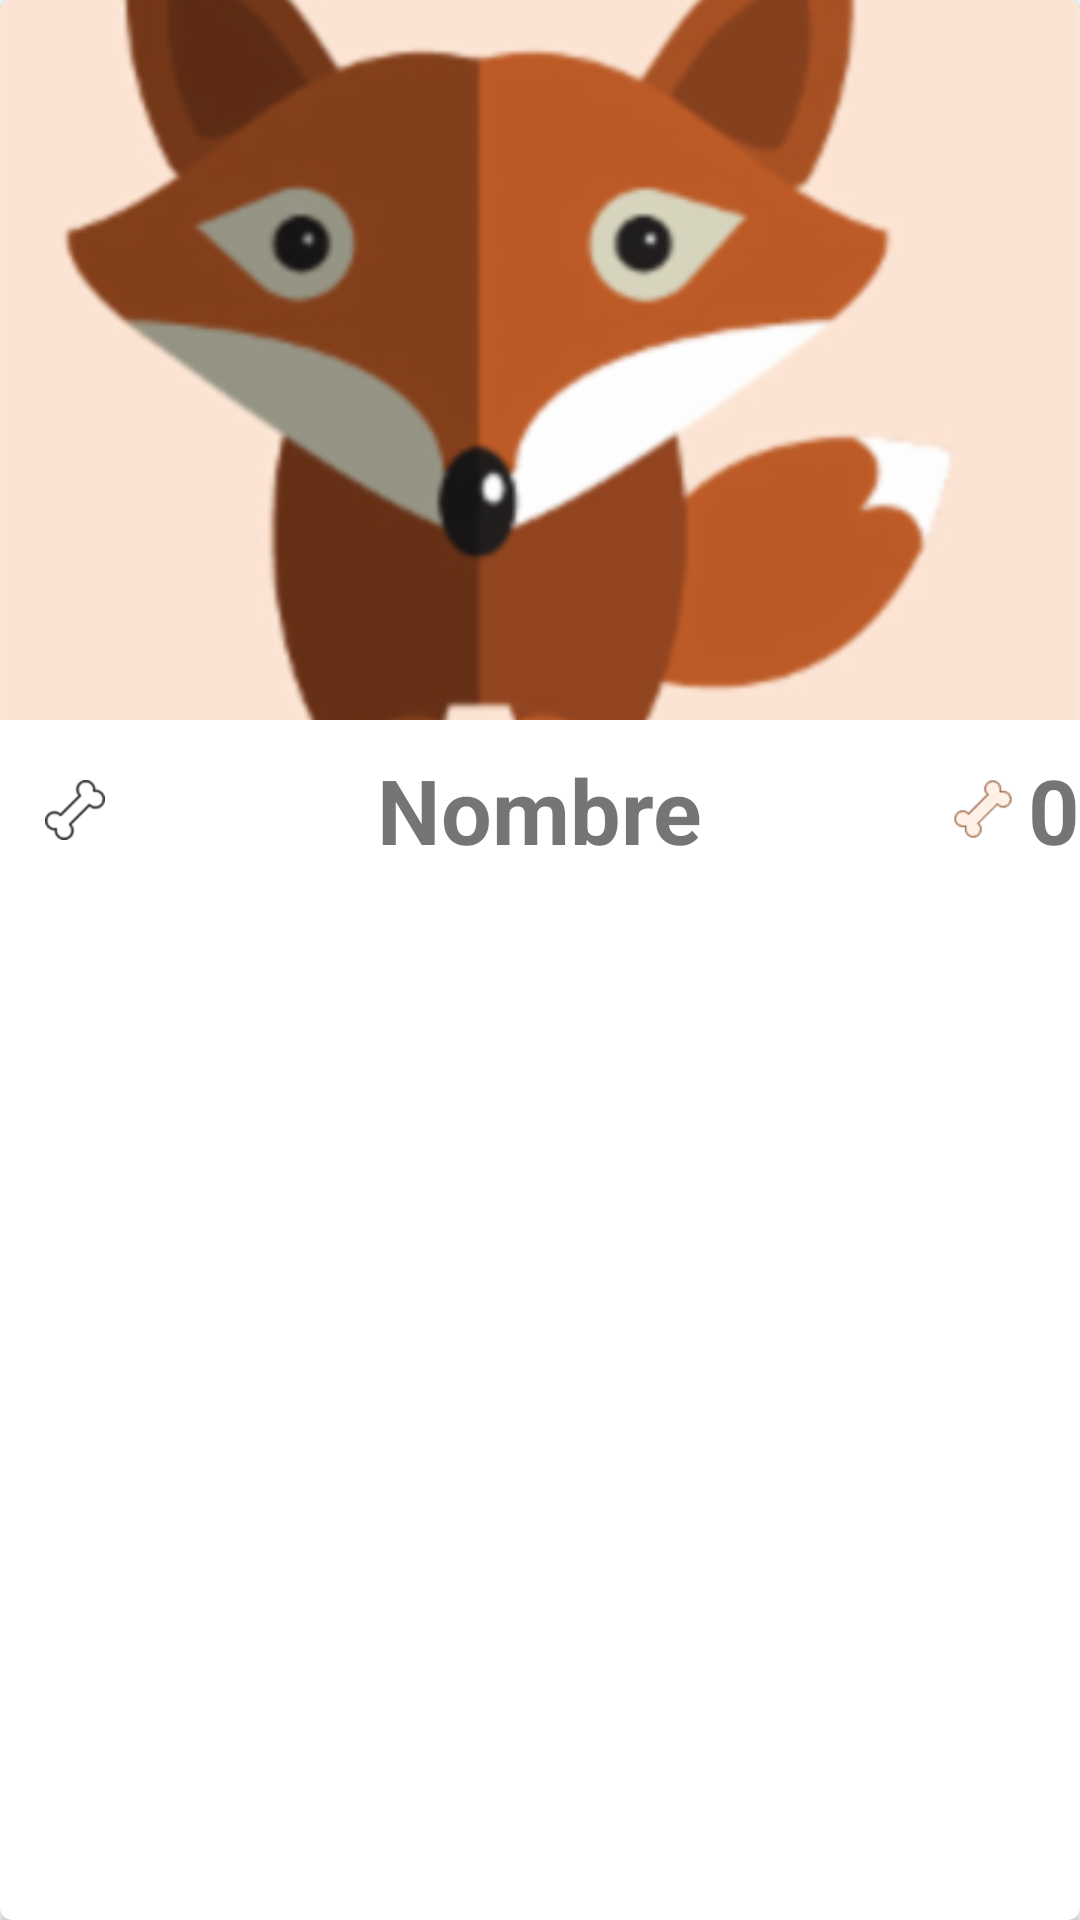

Where icons sit on this 1080w x 1920h app screen, as (x1, y1, x2, y2):
bone: (45, 780, 105, 840)
